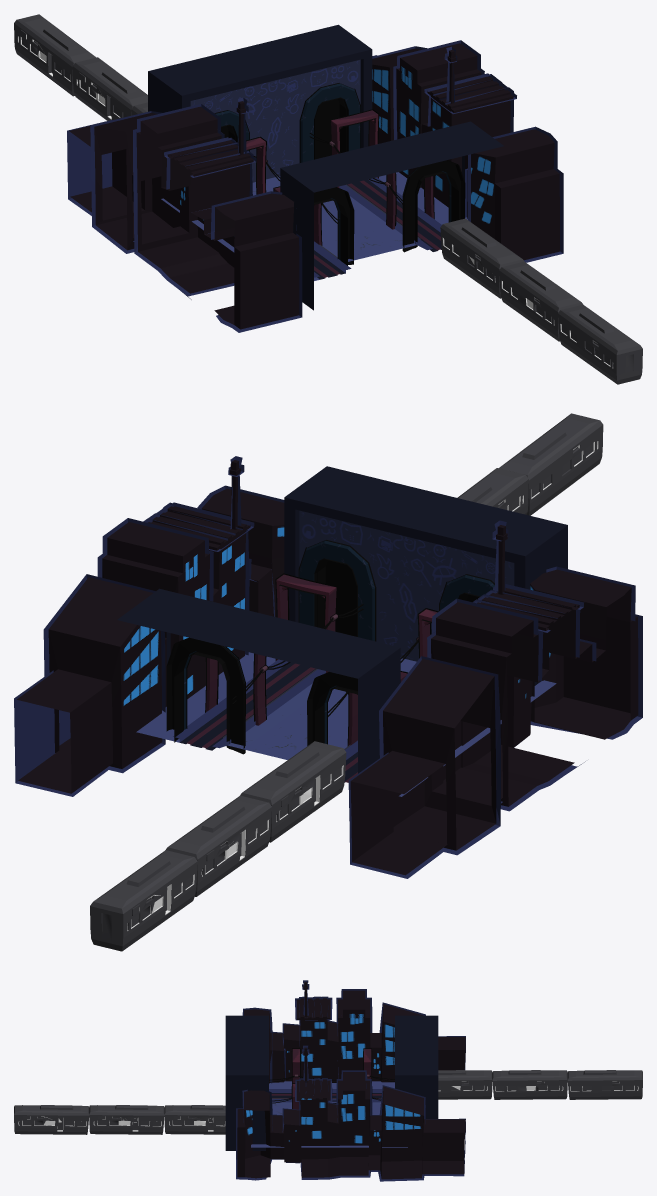
The model's file is Week3.glb.
3 renders of one model, top to bottom at view 1: azimuth 30°, elevation 25°; view 2: azimuth 150°, elevation 25°; view 3: azimuth 270°, elevation 25°, orthographic. The views are drawn at different scales.
Parts seen in each view (by area): view 1: Map, Train2, Train; view 2: Map, Train, Train2; view 3: Map, Train2, Train.
Part boxes in pixels (left/top/right/bottom): Map: left=67, top=24, right=563, bottom=332; Train2: left=440, top=218, right=642, bottom=384; Train: left=14, top=14, right=147, bottom=120; Map: left=14, top=456, right=642, bottom=878; Train: left=90, top=741, right=346, bottom=951; Train2: left=457, top=413, right=603, bottom=515; Map: left=225, top=980, right=465, bottom=1181; Train2: left=14, top=1105, right=225, bottom=1134; Train: left=438, top=1070, right=642, bottom=1099.
Bounding box in the file's own units: 78.46 × 41.44 × 202.
4 materials, 2 textured.
